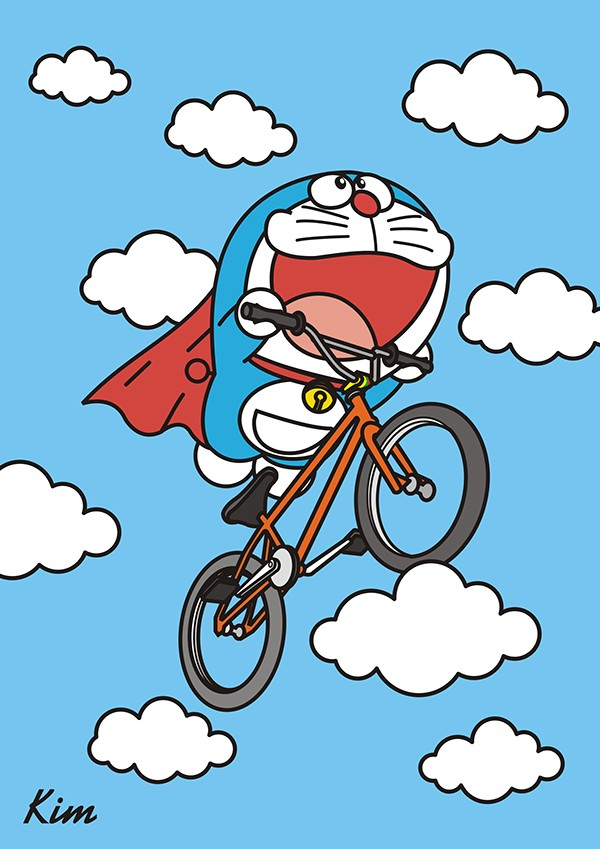bicycle: (170, 298, 500, 726)
cat: (75, 159, 470, 515)
